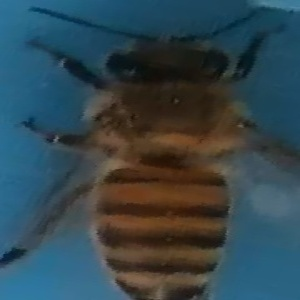bee: (22, 3, 285, 300)
